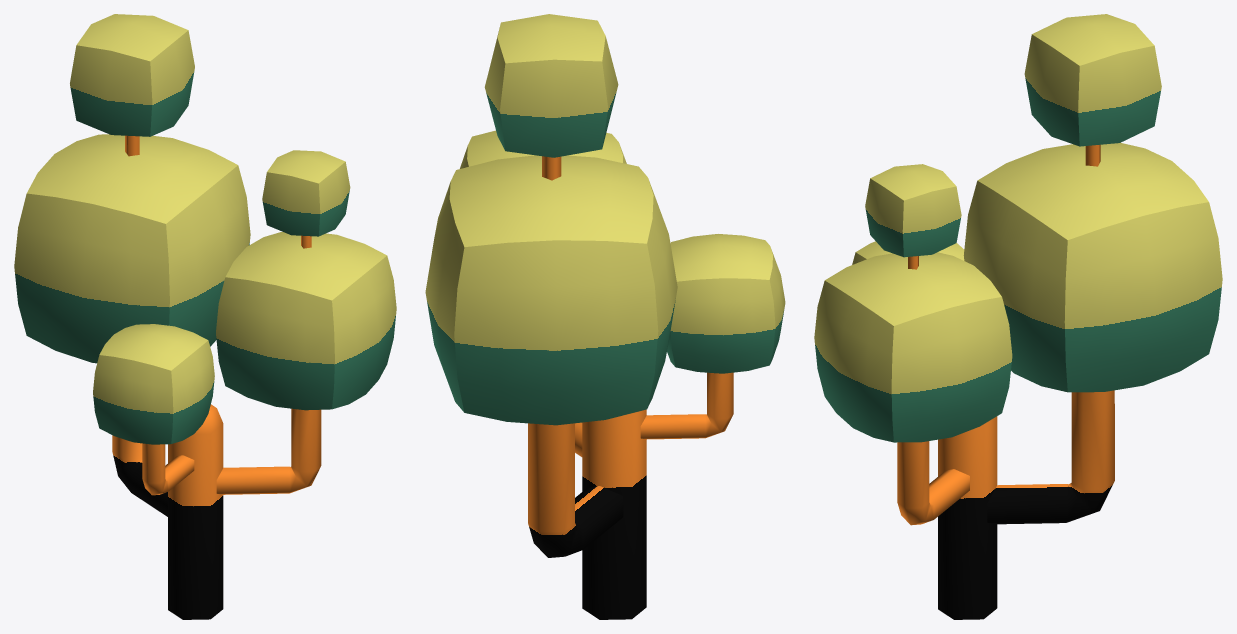
Rendered from tree_square2.obj.
The picture shows the model from 3 angles, left to right: view 1: azimuth 30°, elevation 25°; view 2: azimuth 150°, elevation 25°; view 3: azimuth 270°, elevation 25°; orthographic projection. The views are drawn at different scales.
Parts seen in each view (by area): view 1: Tree.030_Circle.020; view 2: Tree.030_Circle.020; view 3: Tree.030_Circle.020.
Boxes of the visible parts, x1,y1,x2,y2 form: Tree.030_Circle.020: (14,14,396,619); Tree.030_Circle.020: (425,14,785,619); Tree.030_Circle.020: (814,14,1222,619).
Bounding box in the file's own units: 4.24 × 7.72 × 4.91.
Materials: 1 (1 with a texture image).
